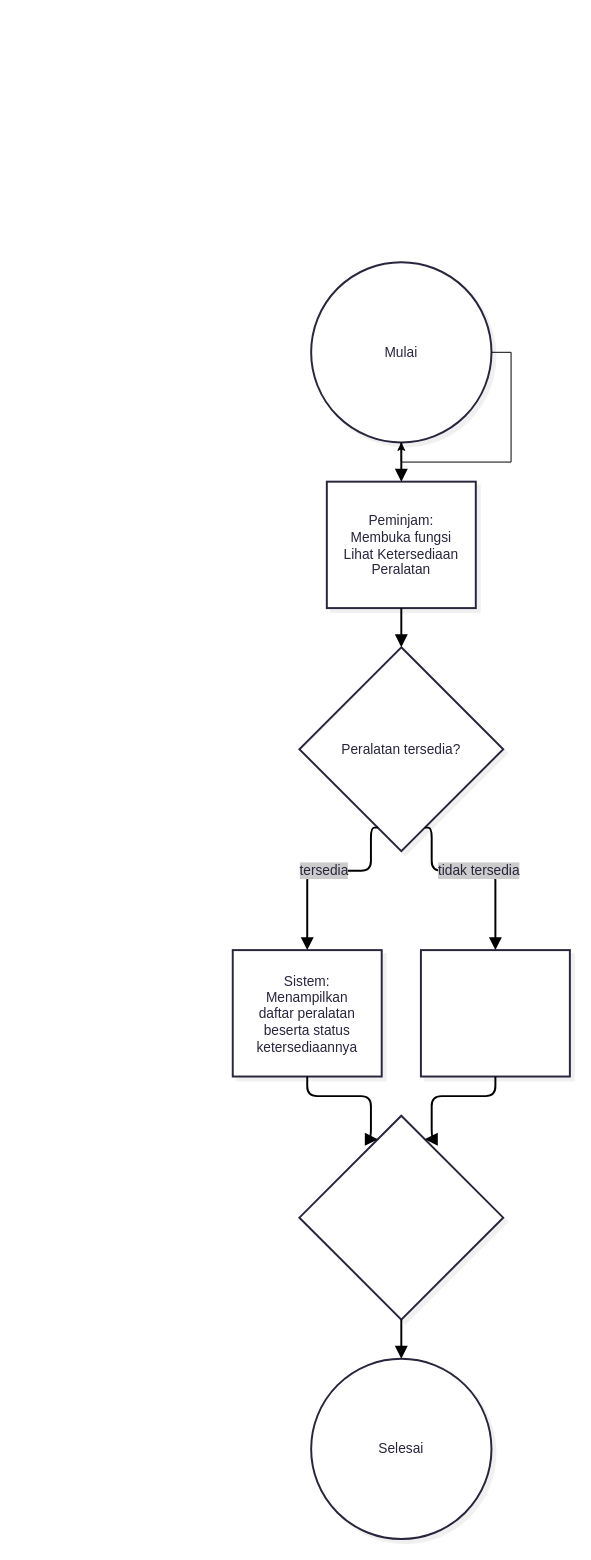
Image size: 591x1560. Some labels were removed from this diagram. Here are the shapes that lost their labels. From the top down, the centre of each, then its label:
pixel 496 1015: Sistem: Menampilkan pesan tidak ada peralatan yang tersedia
pixel 403 1219: Merge
